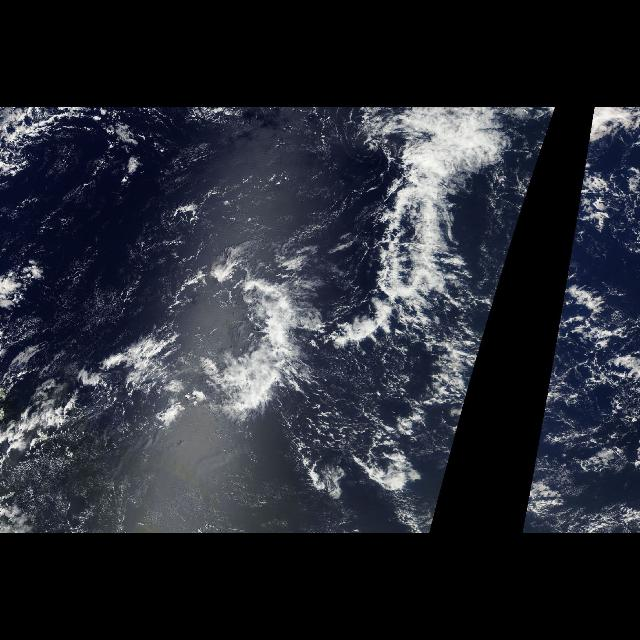Fish: (344, 208, 450, 360), (217, 276, 307, 429)
Gravel: (529, 294, 639, 482), (438, 294, 496, 482)
Sugar: (4, 453, 306, 531)
